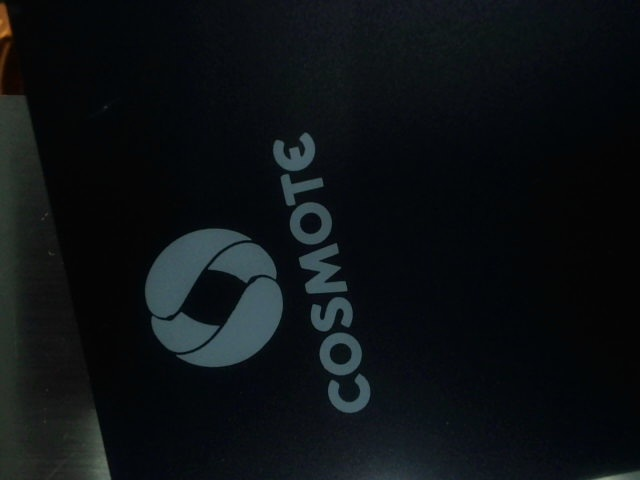AU_COSMOTE: (121, 122, 390, 416)
